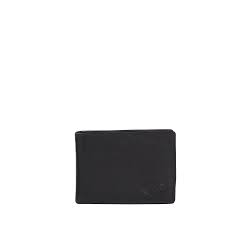monedero: (75, 129, 177, 204)
